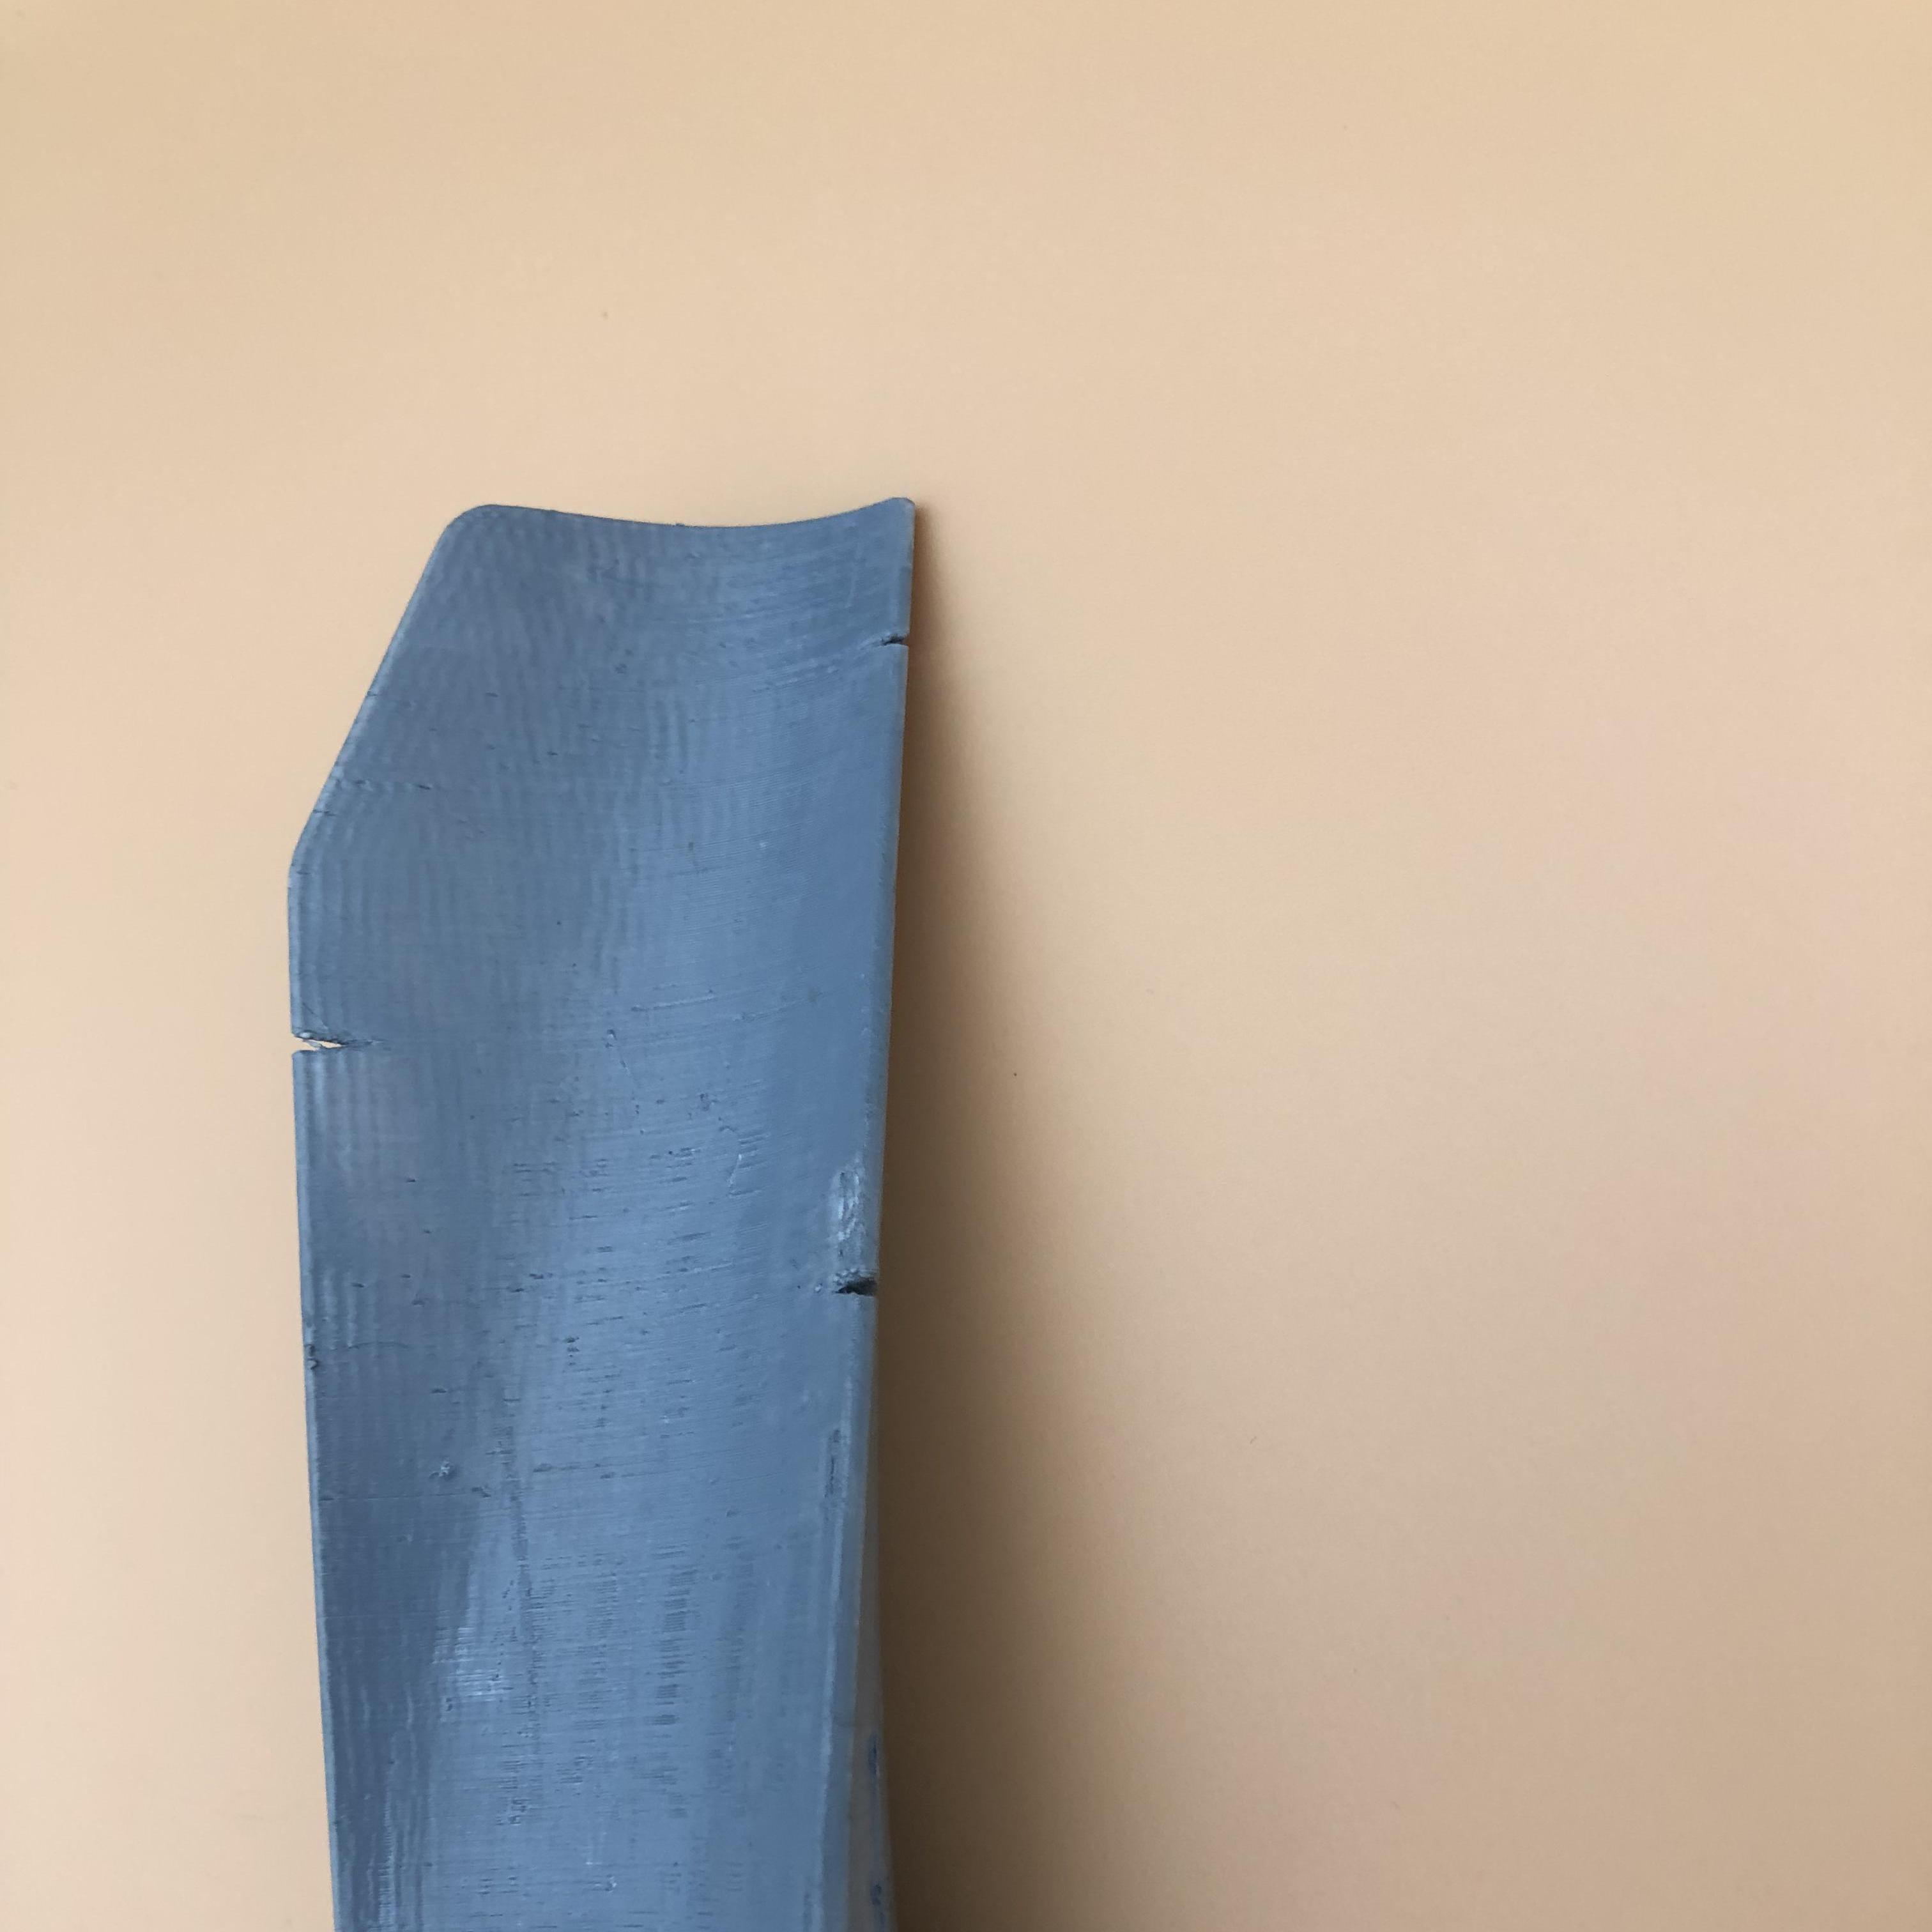groove: (294, 1028, 377, 1063), (823, 1261, 876, 1306), (863, 623, 916, 658)
